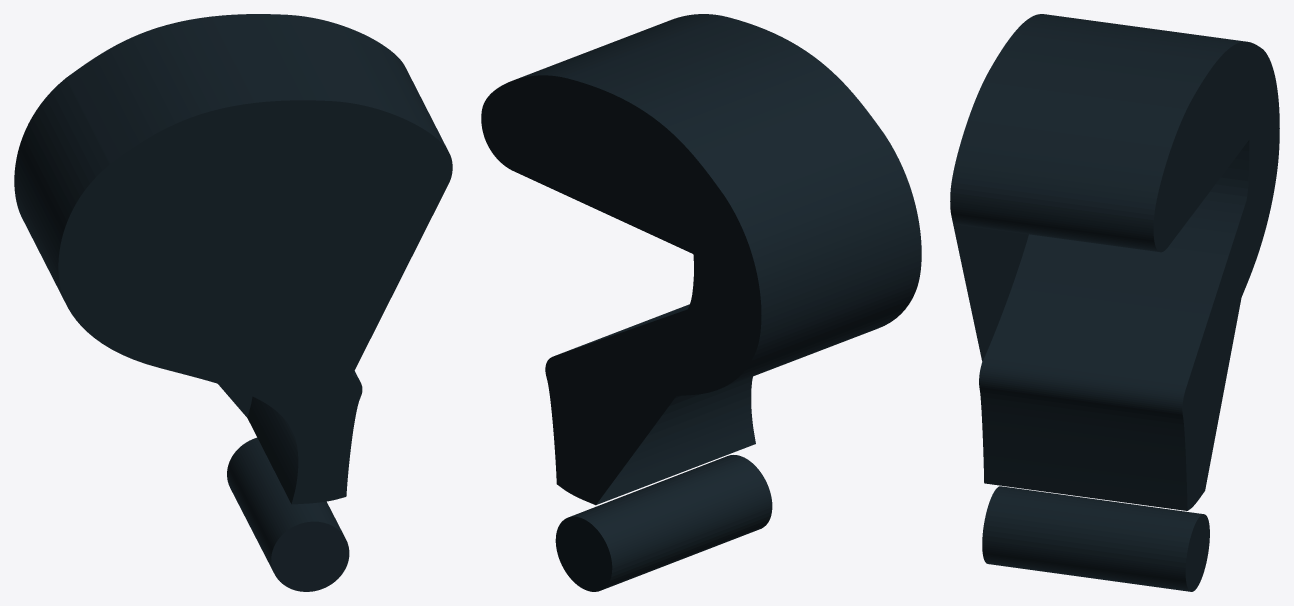
The model's file is 021_Shadow_Question_02.fbx.
3 views of the same model, side by side, from view 1: azimuth 30°, elevation 25°; view 2: azimuth 150°, elevation 25°; view 3: azimuth 270°, elevation 25° (orthographic). The views are drawn at different scales.
Parts seen in each view (by area): view 1: Curve.012; view 2: Curve.012; view 3: Curve.012.
Boxes of the visible parts, bbox=[...] form: Curve.012: bbox=[14, 14, 452, 591]; Curve.012: bbox=[481, 14, 921, 591]; Curve.012: bbox=[950, 14, 1279, 591].
Size of the model in its own units: 95.94 by 117 by 69.04.
